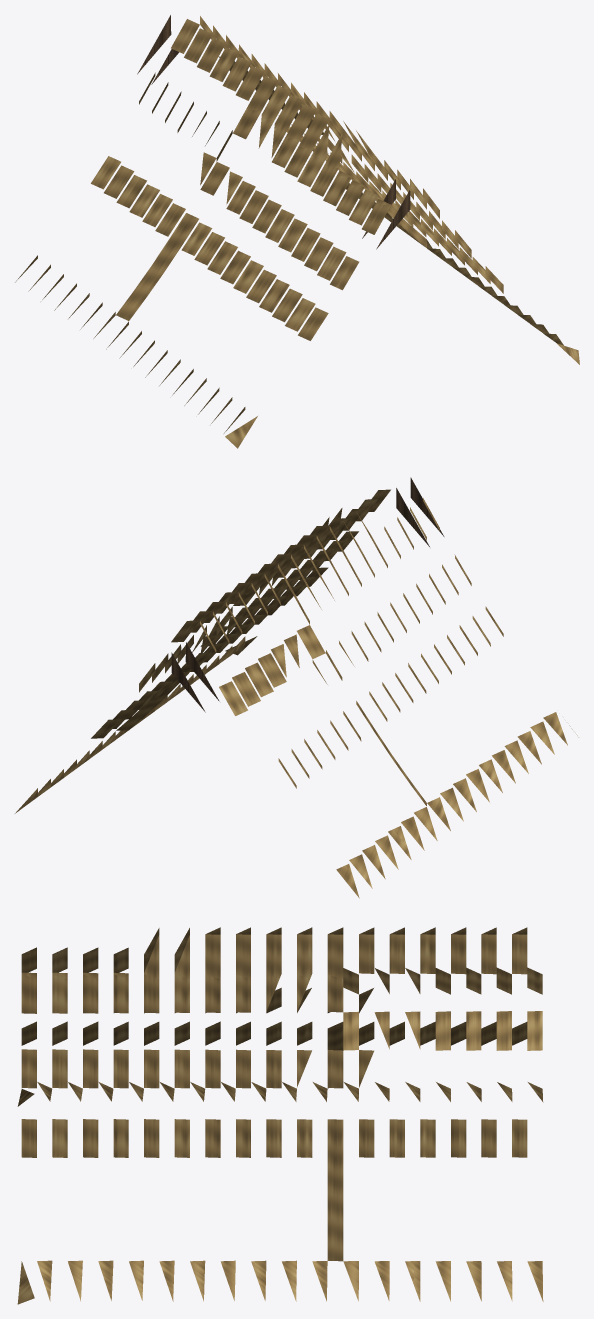
File: Roof_Thatch_6x8_LOD2.gltf
The picture shows the model from 3 angles, top to bottom: view 1: azimuth 30°, elevation 25°; view 2: azimuth 150°, elevation 25°; view 3: azimuth 270°, elevation 25°; orthographic projection. The views are drawn at different scales.
Parts seen in each view (by area): view 1: Roof_Thatch_6x8_LOD2; view 2: Roof_Thatch_6x8_LOD2; view 3: Roof_Thatch_6x8_LOD2.
Boxes of the visible parts, x1,y1,x2,y2 form: Roof_Thatch_6x8_LOD2: [15, 15, 579, 448]; Roof_Thatch_6x8_LOD2: [15, 477, 578, 898]; Roof_Thatch_6x8_LOD2: [17, 927, 543, 1304].
Size of the model in its own units: 8.25 by 5.17 by 9.66.
2 materials, 2 textured.
